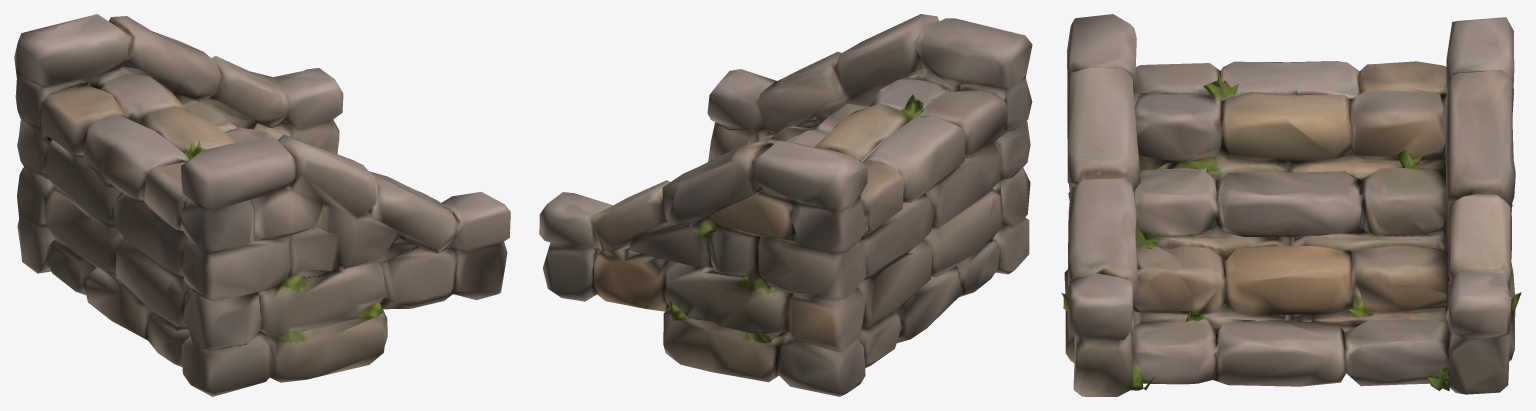
The model's file is stairs_stone_l2.glb.
3 renders of one model, left to right at view 1: azimuth 30°, elevation 25°; view 2: azimuth 150°, elevation 25°; view 3: azimuth 270°, elevation 25°, orthographic. The views are drawn at different scales.
Parts seen in each view (by area): view 1: tripo_node_ca8a87b0-69b4-4206-b909-c1a4d31dd16f; view 2: tripo_node_ca8a87b0-69b4-4206-b909-c1a4d31dd16f; view 3: tripo_node_ca8a87b0-69b4-4206-b909-c1a4d31dd16f.
Boxes of the visible parts, bbox=[...] form: tripo_node_ca8a87b0-69b4-4206-b909-c1a4d31dd16f: bbox=[14, 14, 510, 396]; tripo_node_ca8a87b0-69b4-4206-b909-c1a4d31dd16f: bbox=[539, 14, 1032, 396]; tripo_node_ca8a87b0-69b4-4206-b909-c1a4d31dd16f: bbox=[1061, 14, 1521, 396].
Size of the model in its own units: 0.8501 by 0.6155 by 0.9793.
Materials: 1 (1 with a texture image).
